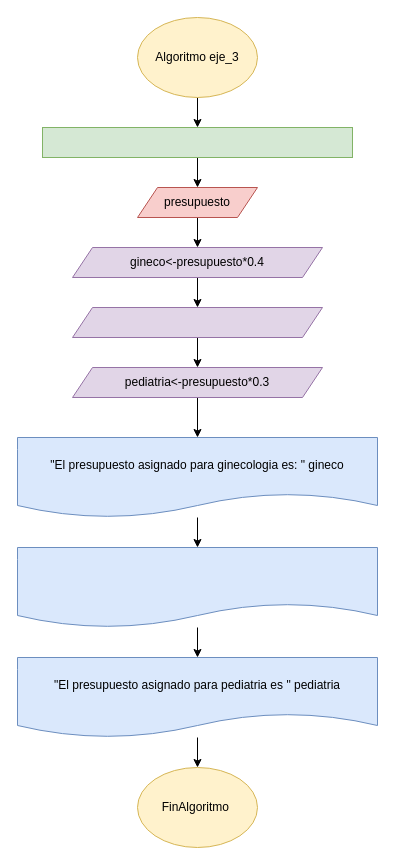
The diagram is 395 pixels wide and 865 high, and some of its shapes have lost their labels. Here are the shapes that lost their labels. From the top down, the box of each, then its label:
(42, 126, 352, 158): "Ingrese presupesto total"
(72, 306, 322, 338): trauma<-presupuesto*0.3
(16, 546, 378, 628): "El presupuesto asignado para traumatologia es! " trauma
